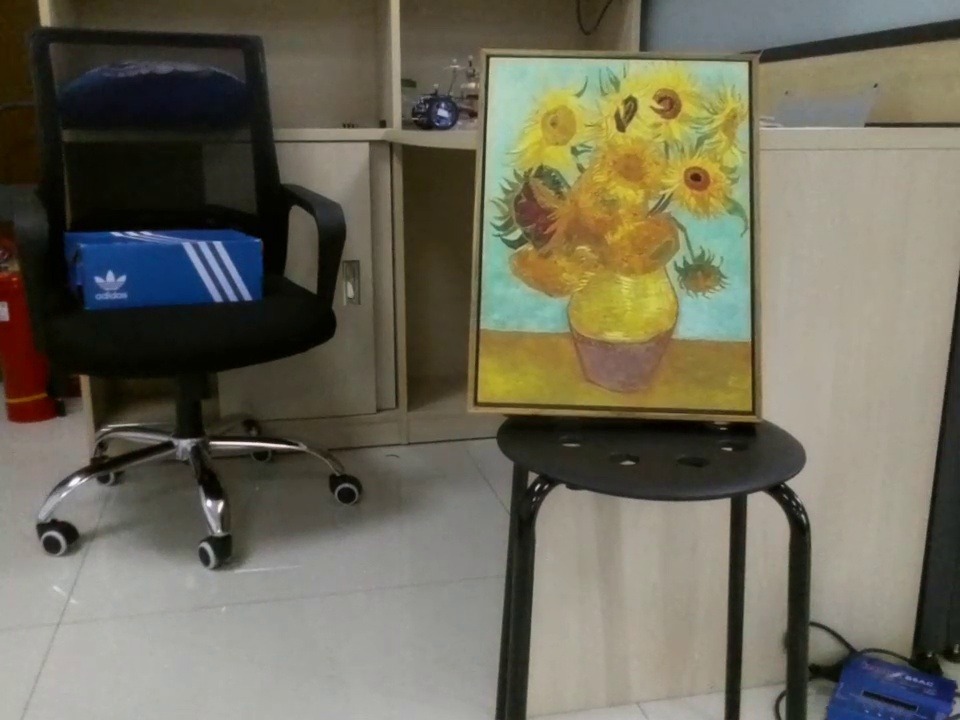painting: (474, 47, 773, 425)
